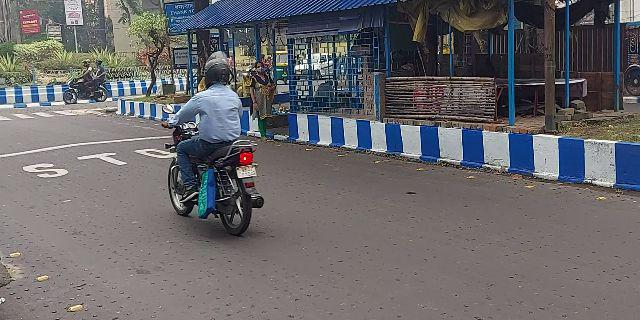Motorbike: (163, 54, 269, 229), (61, 52, 119, 103)
